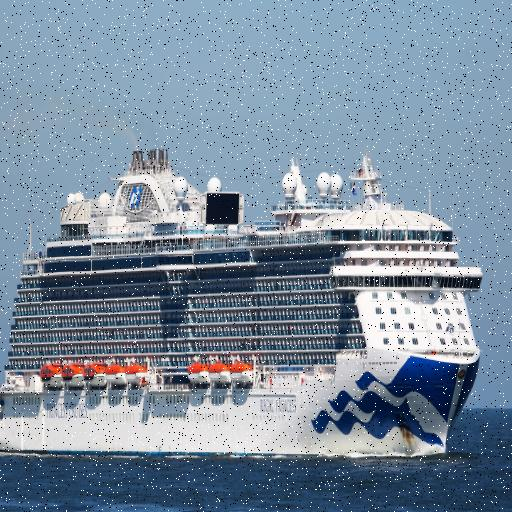cruises: (1, 147, 489, 466)
